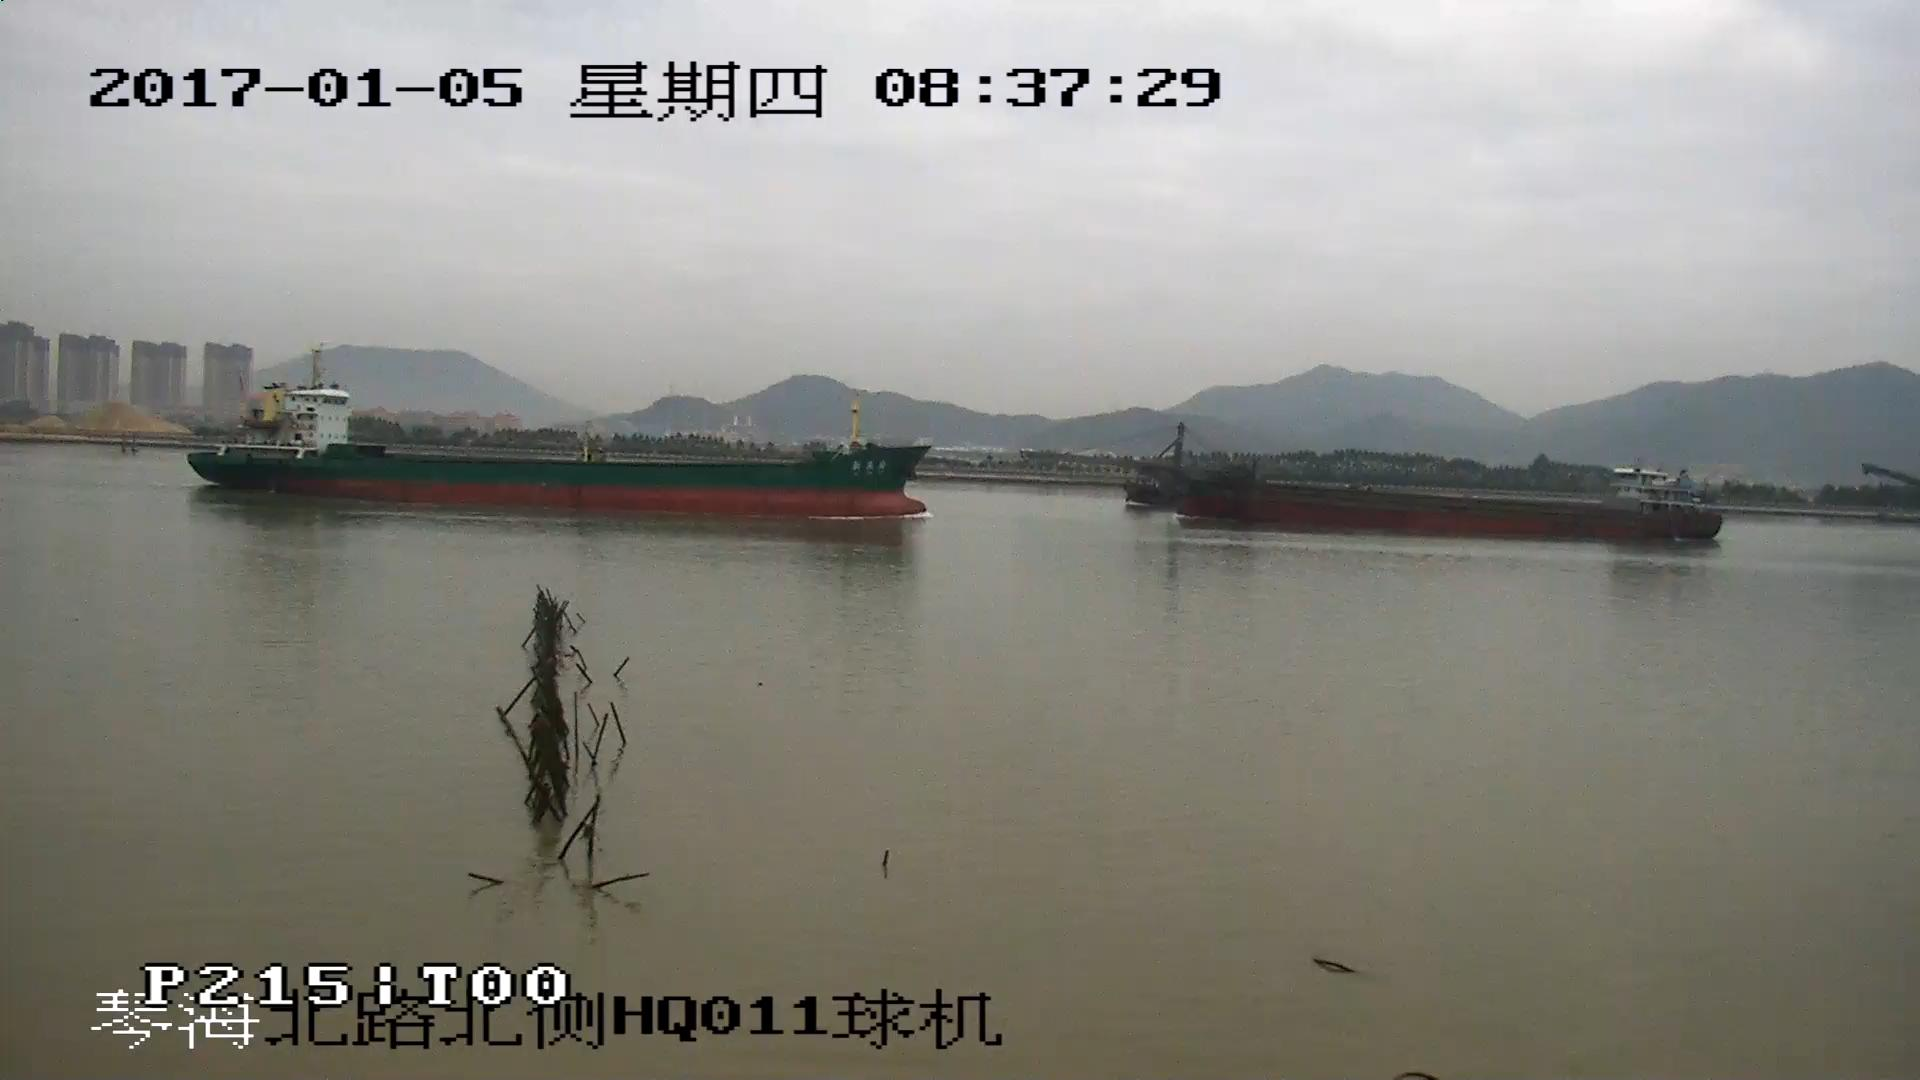bulk cargo carrier: (1106, 428, 1723, 541)
general cargo ship: (182, 349, 931, 522)
